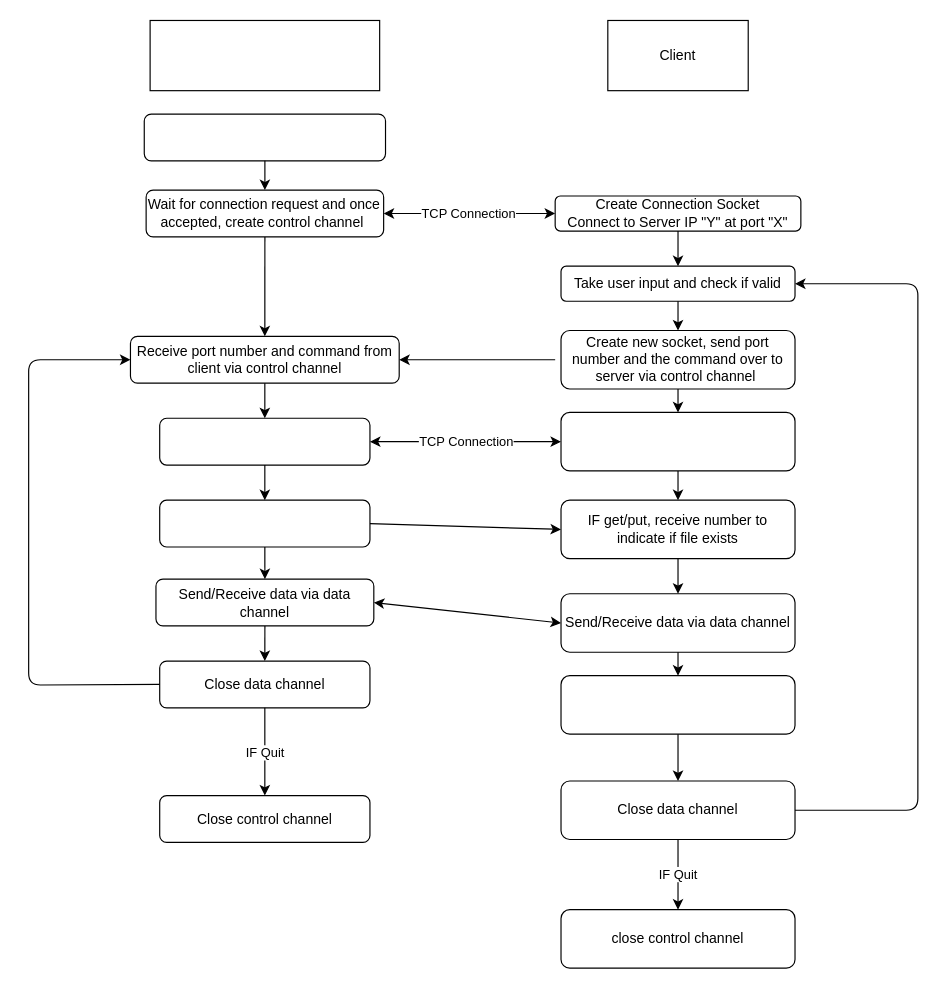
Some shapes in this 948 by 989 pixel diagram are drawn without their labels. The centre of each missing label's shape, as x and y in pixels:
Create new socket and connect to client as the data channel: (264,441)
Create Welcome Socket Port "X" is used for incoming requests: (264,137)
Data Connection Opened: (677,441)
IF get/put, send out "1" if file exists to the client over the data channel.: (264,523)
Print filename and number of bytes transferred: (677,704)
Server: (264,55)
